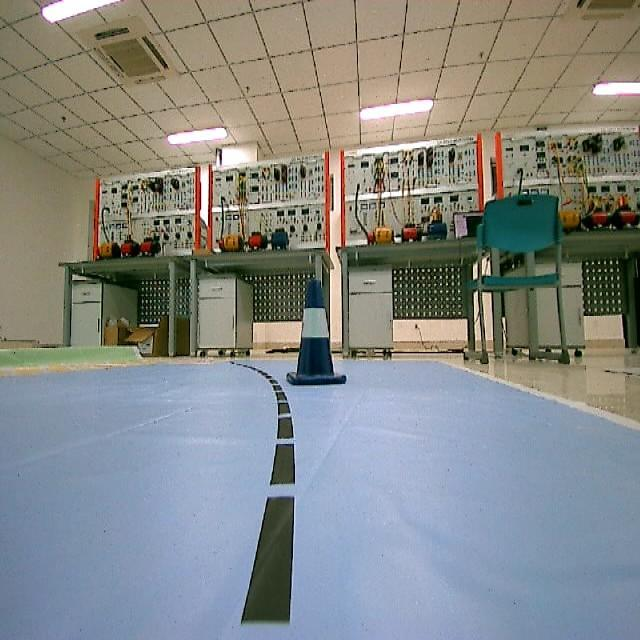obstacle: (286, 277, 352, 395)
